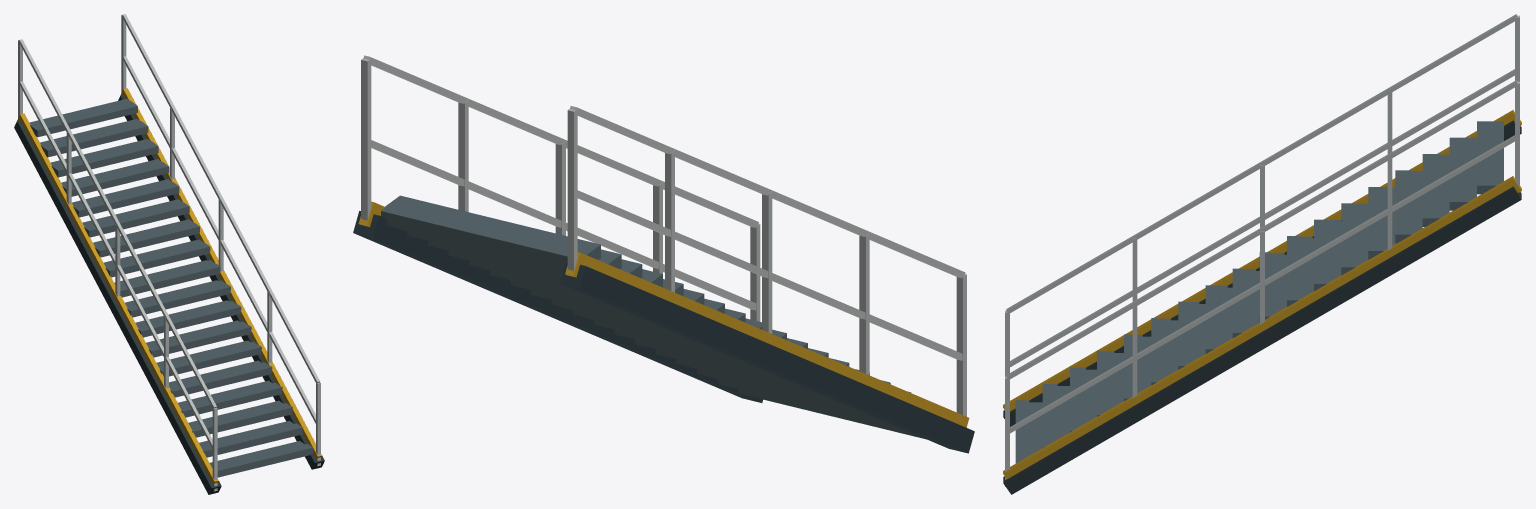
Rendered from stair_run.glb.
3 views of the same model, side by side, from view 1: azimuth 30°, elevation 25°; view 2: azimuth 150°, elevation 25°; view 3: azimuth 270°, elevation 25° (orthographic). The views are drawn at different scales.
Visible parts, largest first — view 1: body; view 2: body; view 3: body.
Boxes of the visible parts, x1,y1,x2,y2 form: body: (14, 14, 324, 494); body: (353, 55, 974, 453); body: (1003, 14, 1521, 494).
Bounding box in the file's own units: 1.58 × 4.18 × 4.78.
